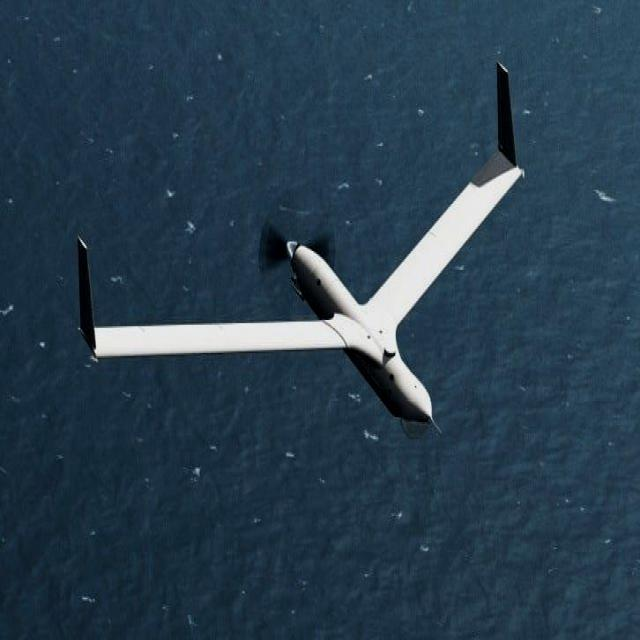iha: (72, 52, 522, 441)
